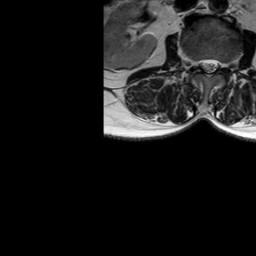CCS_normal: (205, 51, 212, 83)
LFS_normal: (220, 52, 229, 76)
LLS_stenosis: (212, 51, 220, 78)
RFS_normal: (190, 50, 198, 76)
RLS_normal: (198, 52, 205, 76)
